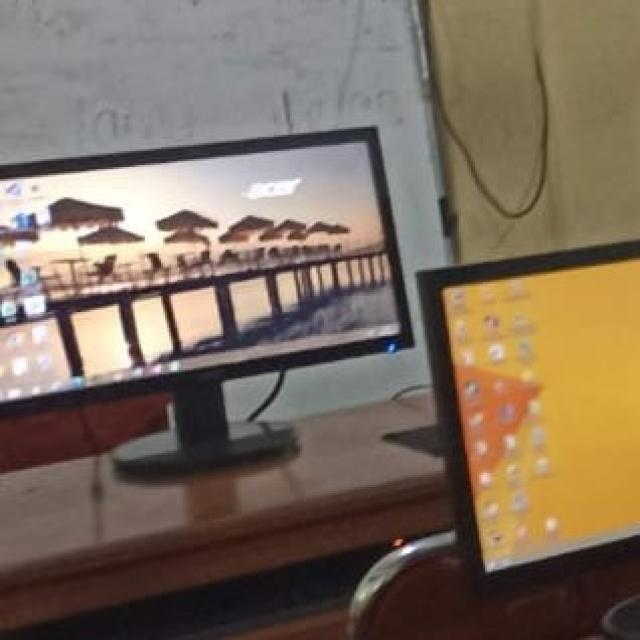onscreen: (0, 128, 411, 412), (420, 241, 640, 571)
